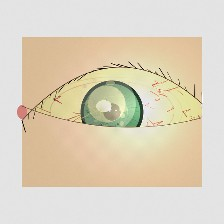corneal_ulcer: (76, 80, 137, 128)
